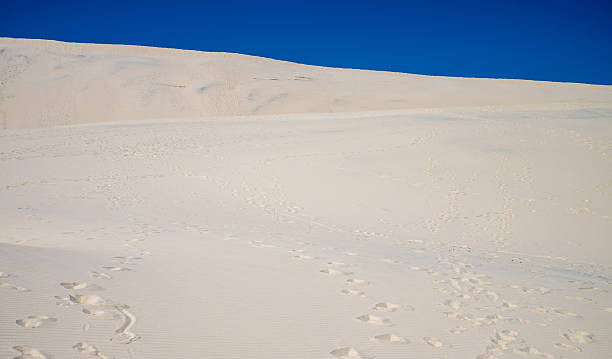human_foot_print: (72, 342, 108, 358), (16, 315, 57, 327), (13, 345, 50, 358), (329, 347, 365, 358), (372, 333, 409, 343), (60, 282, 103, 290), (356, 314, 389, 324), (0, 282, 29, 291), (422, 337, 443, 347), (341, 288, 364, 296)
